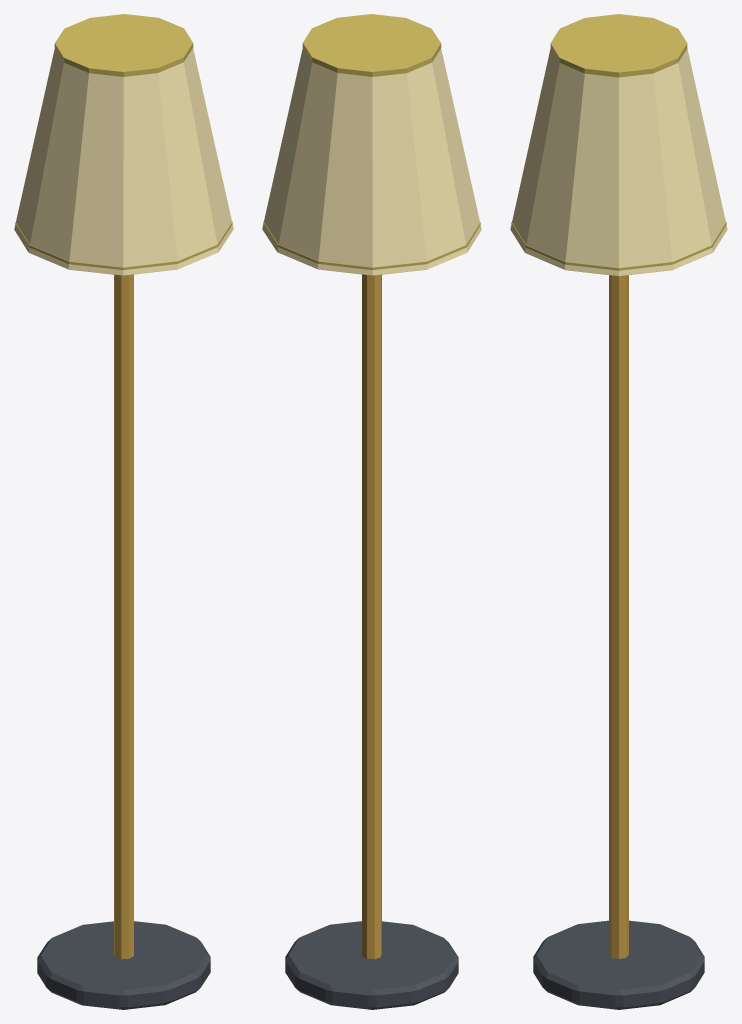
Rendered from floor_lamp.glb.
The picture shows the model from 3 angles, left to right: view 1: azimuth 30°, elevation 25°; view 2: azimuth 150°, elevation 25°; view 3: azimuth 270°, elevation 25°; orthographic projection.
Visible parts, largest first — view 1: floor_lamp_Body; view 2: floor_lamp_Body; view 3: floor_lamp_Body.
Boxes of the visible parts, x1=… form: floor_lamp_Body: x1=14, y1=14, x2=233, y2=1009; floor_lamp_Body: x1=262, y1=14, x2=481, y2=1009; floor_lamp_Body: x1=510, y1=14, x2=727, y2=1009.
Bounding box in the file's own units: 0.3 × 1.4 × 0.296.
